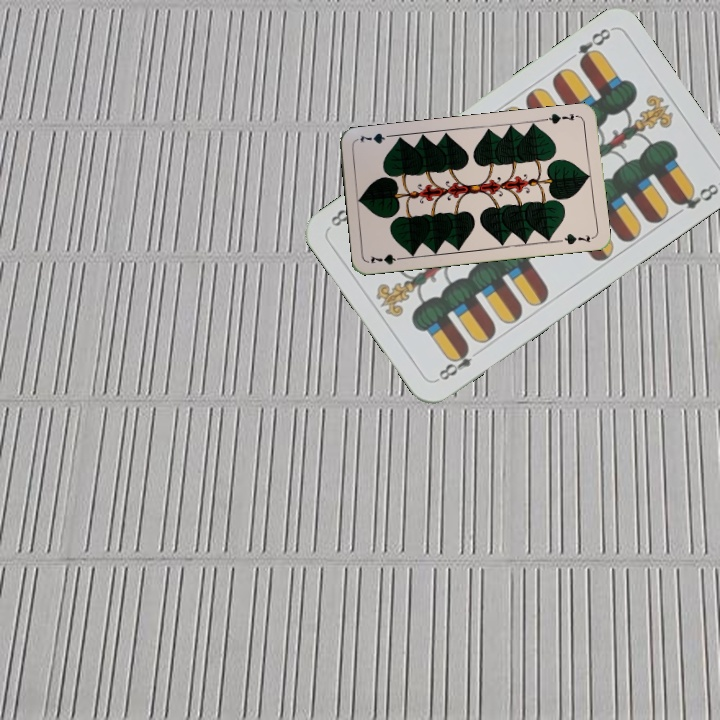E8: (573, 24, 614, 69), (432, 342, 475, 384)
G7: (366, 250, 407, 267), (541, 109, 582, 126)
